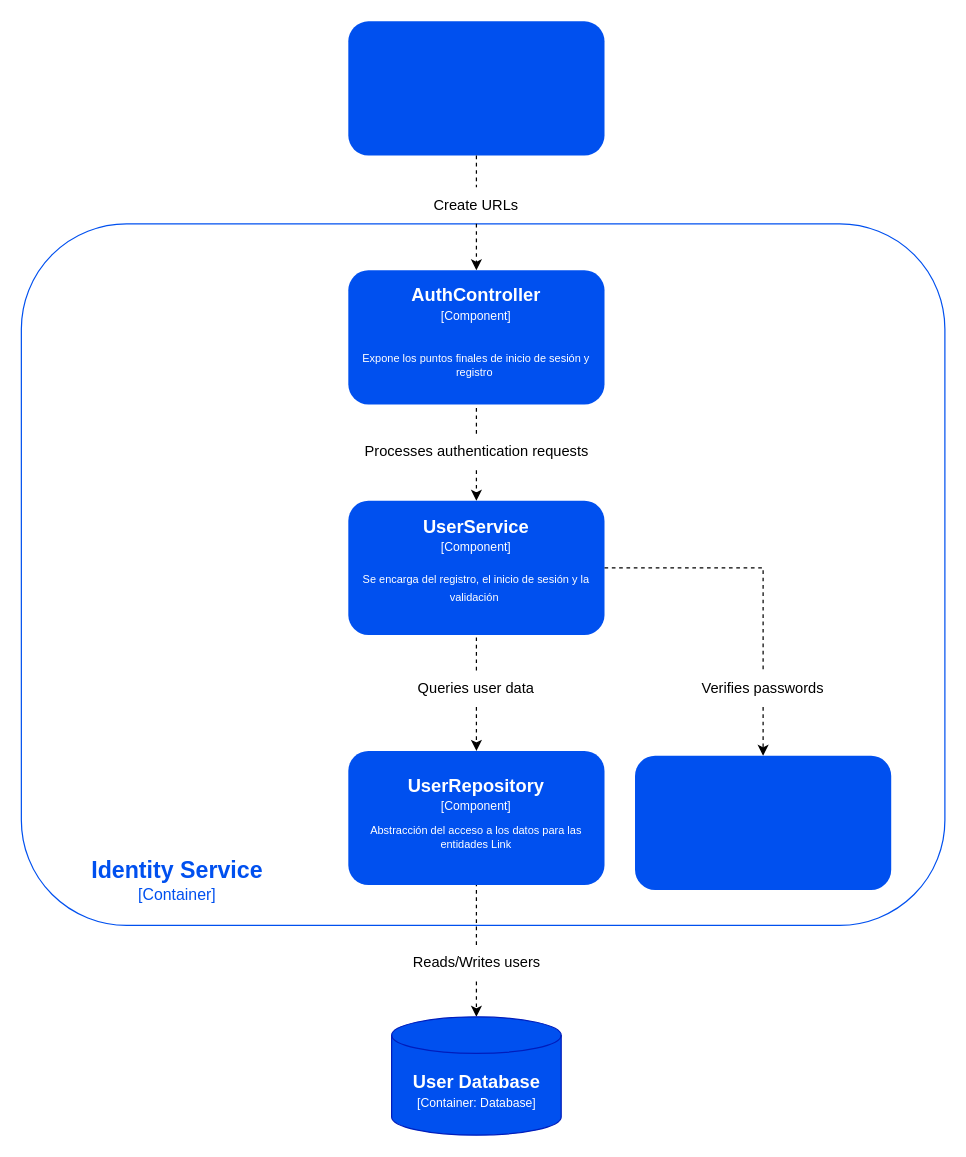
Some shapes in this 966 by 1157 pixel diagram are drawn without their labels. The box of each missing label's shape, as (x1, y1, x2, y2) in pixels:
BCrypt Provider [Component] Hash de contraseñas: (634, 755, 891, 889)
User [Person]: (348, 21, 604, 155)
